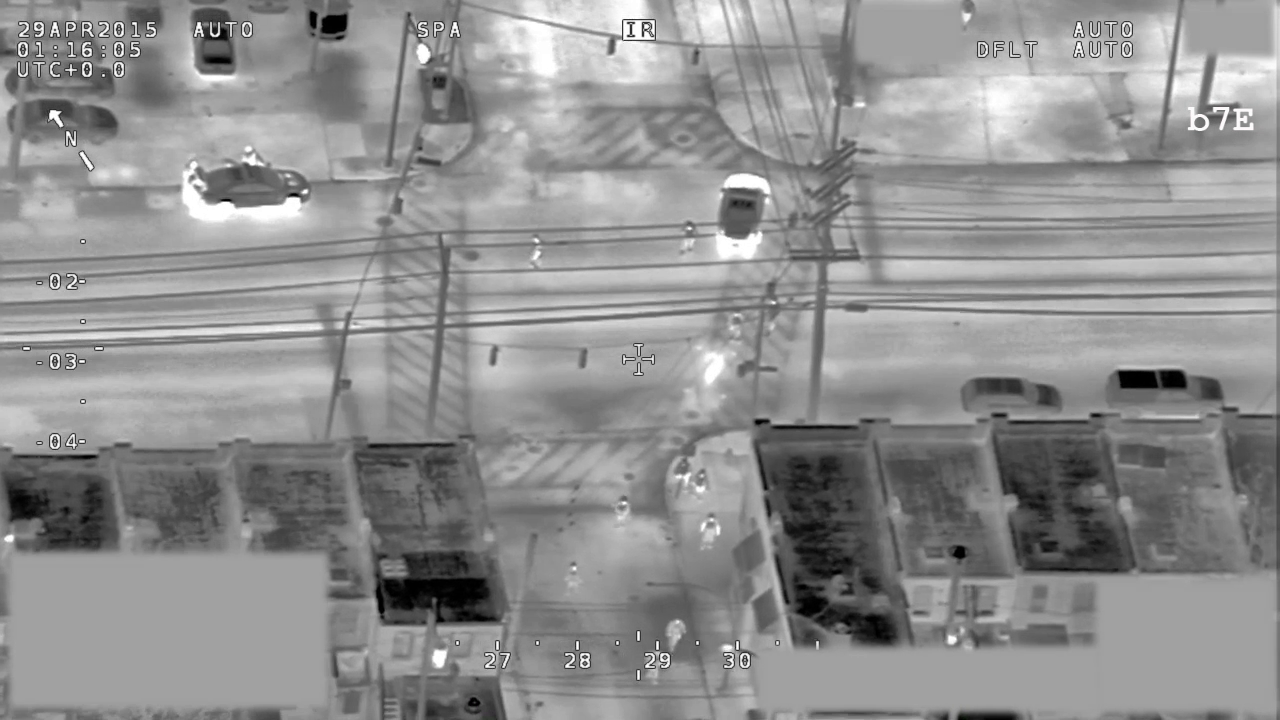vehicle: (182, 155, 315, 222), (1104, 366, 1228, 416), (4, 99, 128, 148), (711, 171, 777, 262), (1, 57, 116, 103), (957, 375, 1065, 422), (1, 17, 104, 63), (190, 5, 237, 83)
